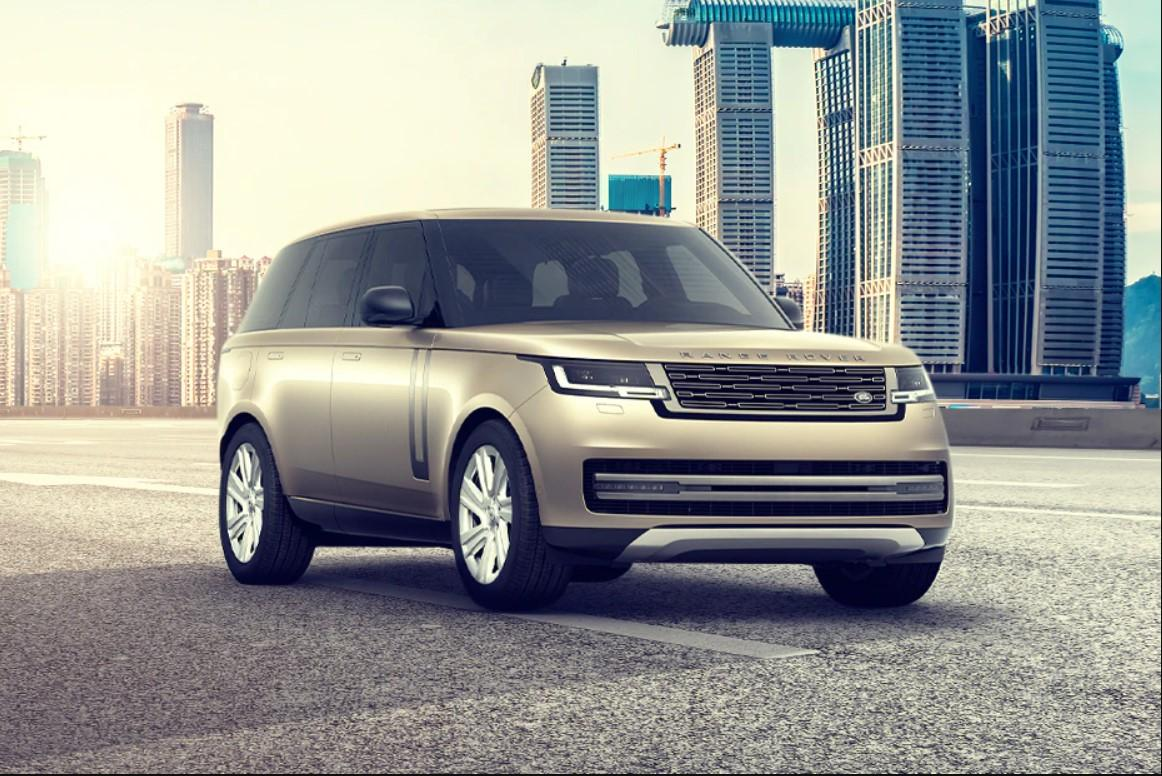range rover: (669, 340, 867, 372)
